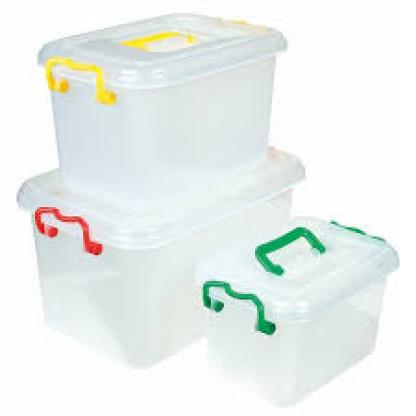plastic_box: (26, 2, 290, 209), (192, 209, 400, 410)
